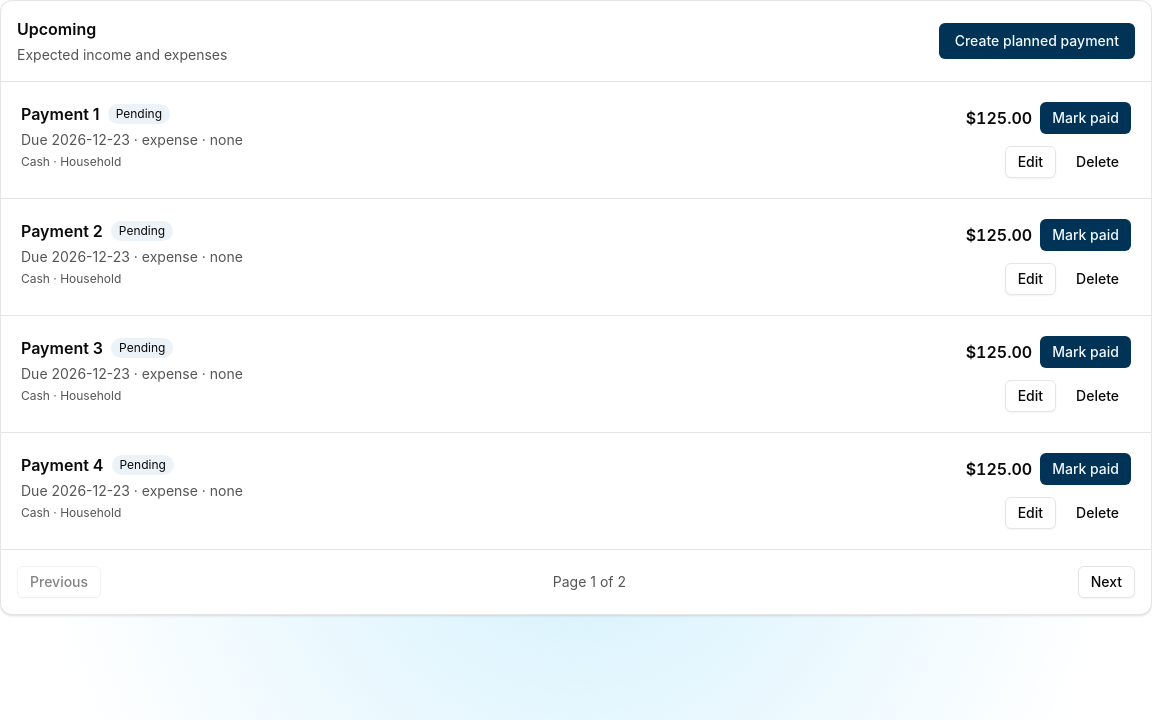
Test: PlannedPaymentsView › shows four upcoming payments per page and navigates between pages
The image size is (1152, 720).
Expected: the heading "Payment 1" is shown, [21,102,100,126]
Expected: the heading "Payment 5" is not shown
Click the button named "Next upcoming page" at coordinates (1106, 582), box [1078,566,1135,598]
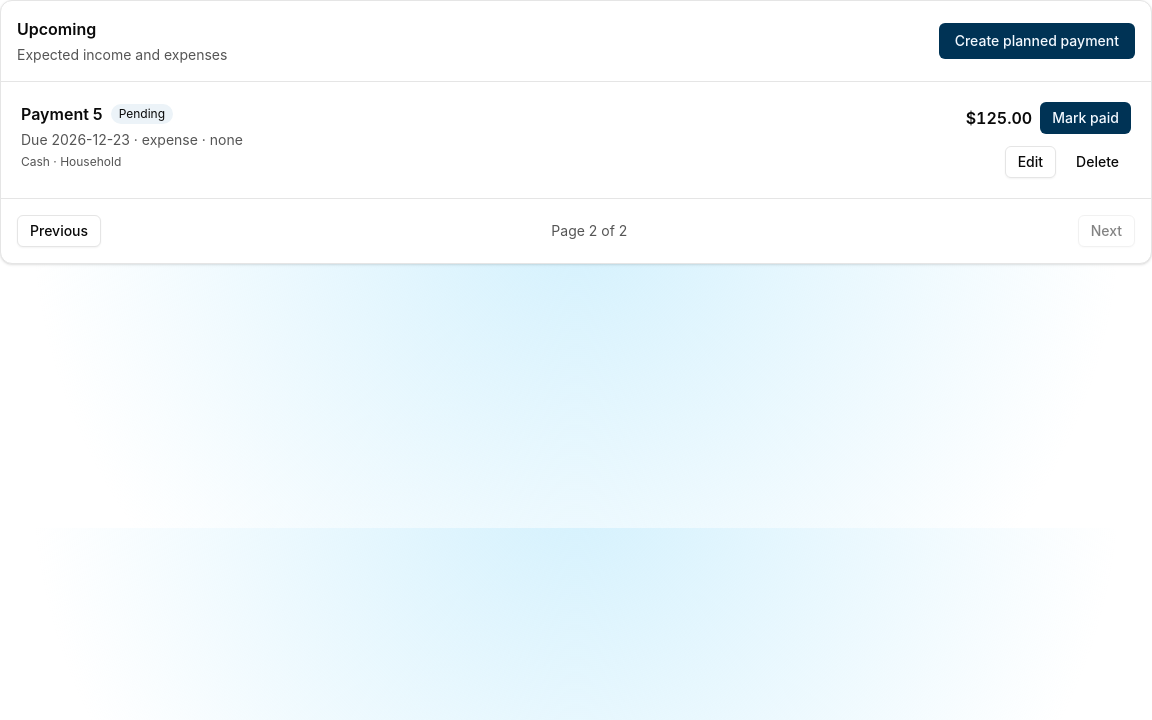
Expected: the heading "Payment 5" is shown, [21,102,103,126]
Expected: the text "Page 2 of 2" is shown, [551,221,627,241]
Expected: the button named "Next upcoming page" is disabled, [1078,215,1135,247]
